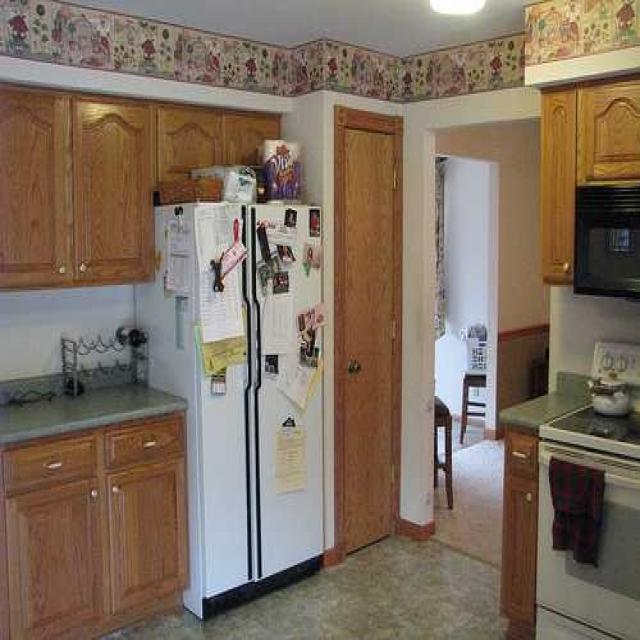refrigerator: (148, 174, 341, 624)
